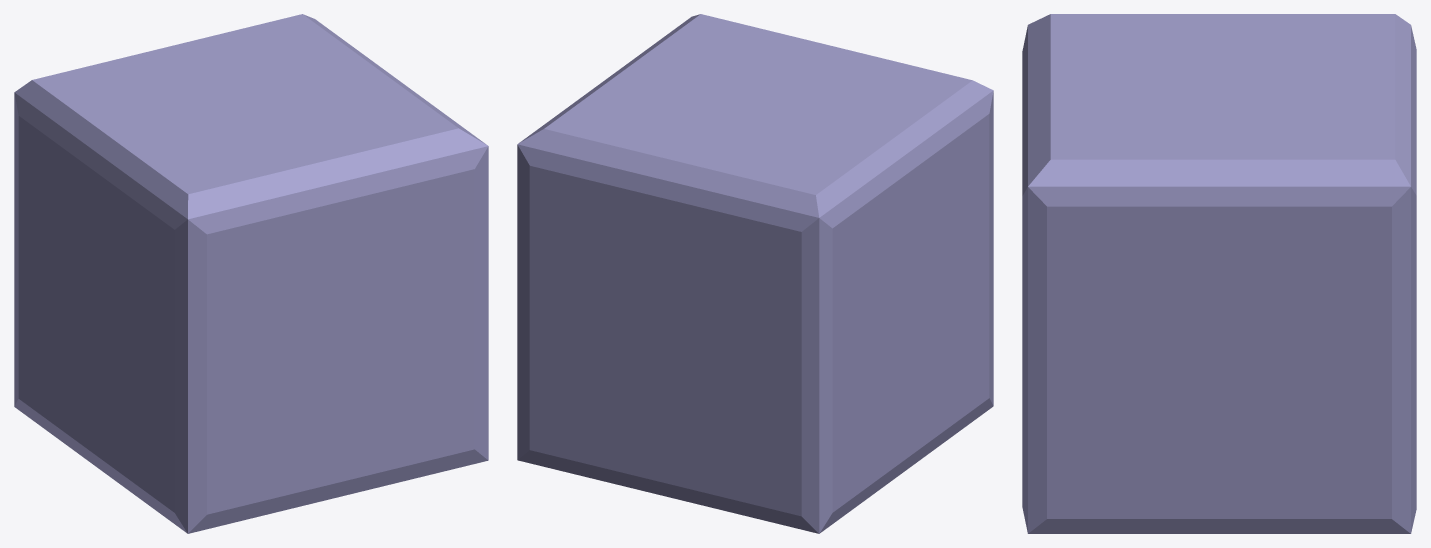
Rendered from Block_Grey_Bevel.fbx.
The picture shows the model from 3 angles, left to right: view 1: azimuth 30°, elevation 25°; view 2: azimuth 150°, elevation 25°; view 3: azimuth 270°, elevation 25°; orthographic projection. The views are drawn at different scales.
Visible parts, largest first — view 1: Cube; view 2: Cube; view 3: Cube.
Boxes of the visible parts, x1,y1,x2,y2 form: Cube: (14,14,488,533); Cube: (517,14,993,533); Cube: (1022,14,1416,533).
Bounding box in the file's own units: 206 × 213 × 206.
